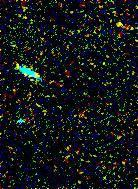star: (103, 10, 133, 40)
